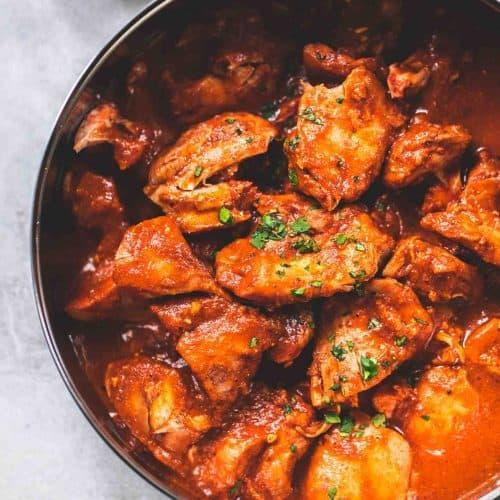chicken: (51, 9, 500, 500)
